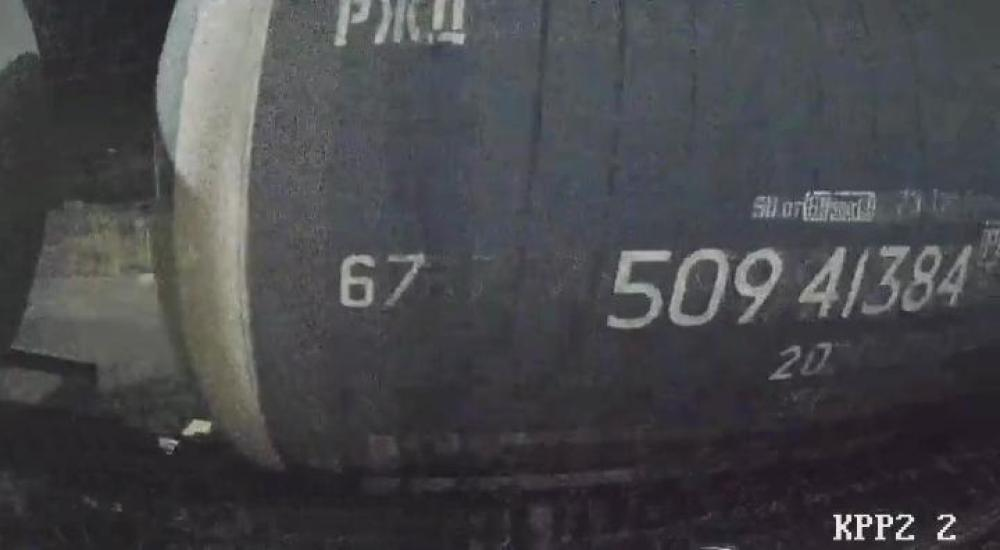Wagon-number: (600, 237, 979, 335)
